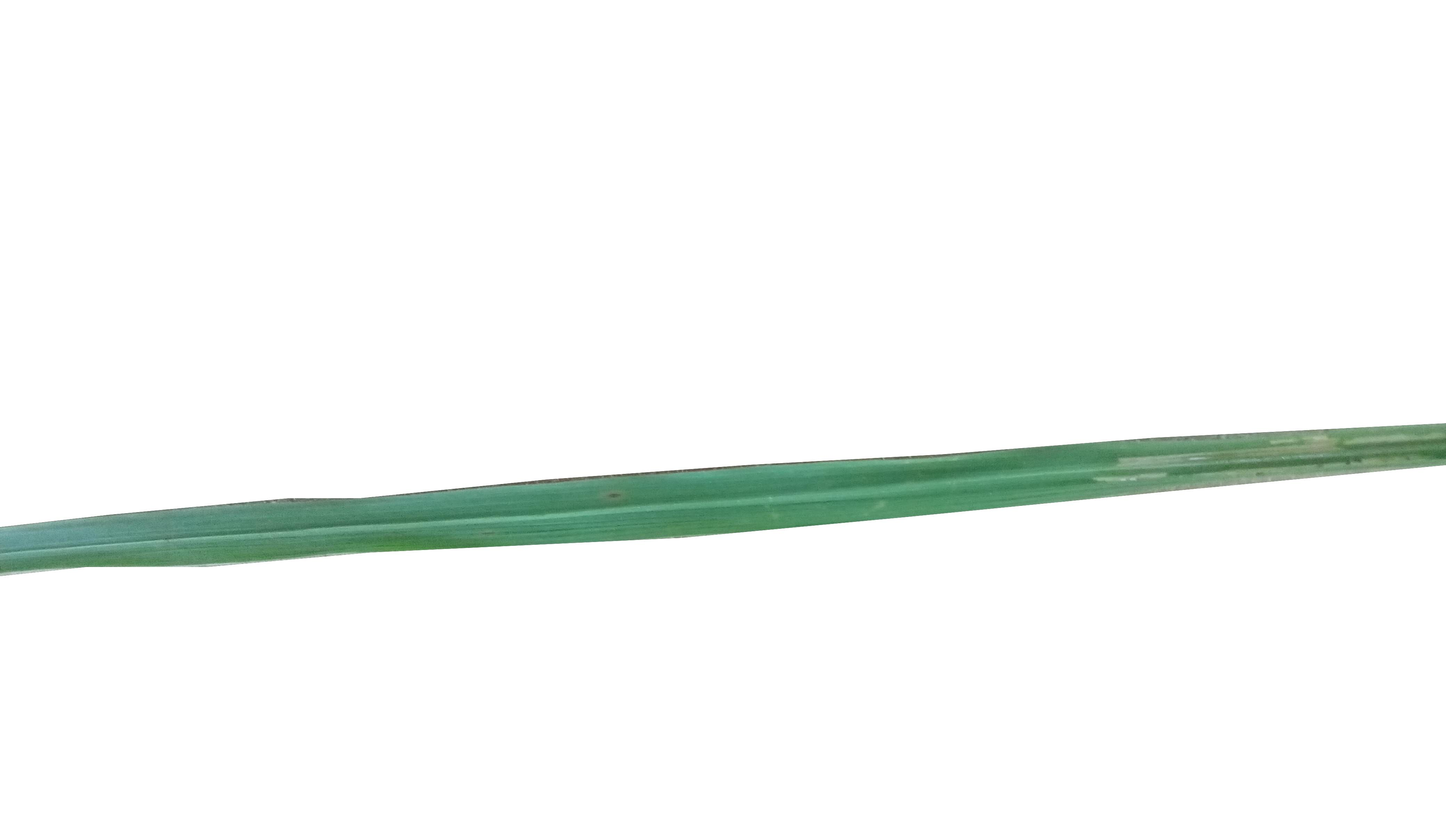Blight: (1253, 436, 1333, 469), (1114, 444, 1180, 481), (1342, 428, 1413, 461), (1183, 447, 1257, 474)
Brown spot: (601, 489, 627, 504)
